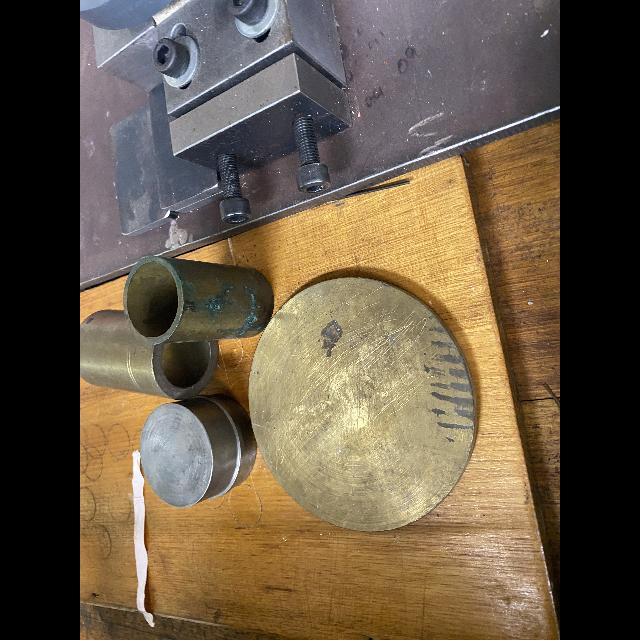Brass: (249, 278, 477, 531), (124, 257, 274, 345), (80, 310, 218, 399)
Ferrous Metal: (95, 0, 349, 237), (140, 395, 256, 507)
